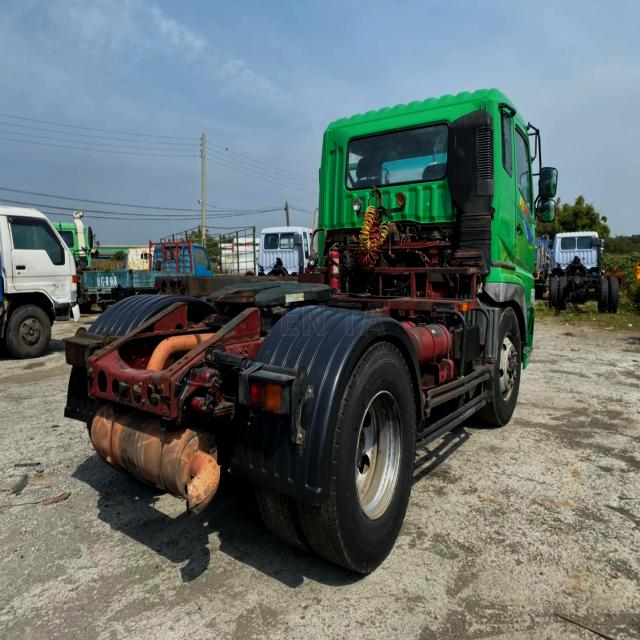truck: (64, 84, 561, 578), (78, 235, 215, 315), (544, 210, 624, 325)
